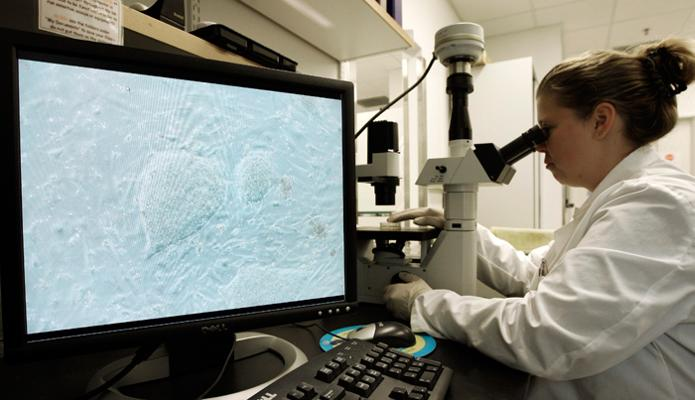person: (385, 41, 695, 400)
